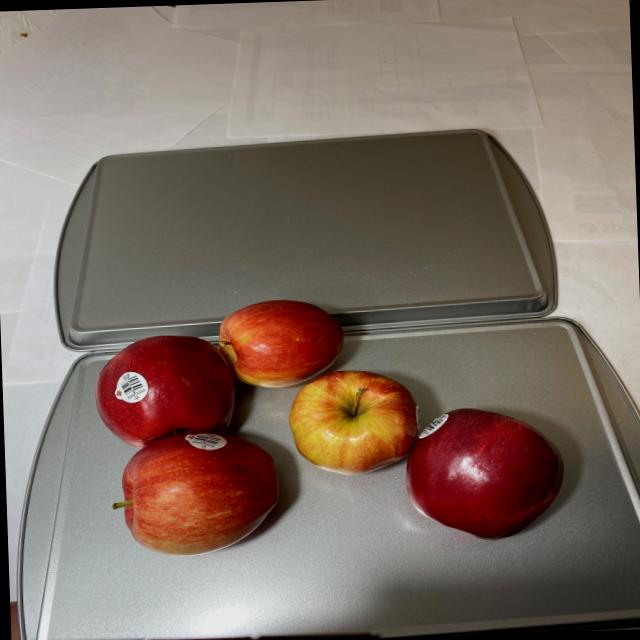apple: (94, 288, 570, 570)
